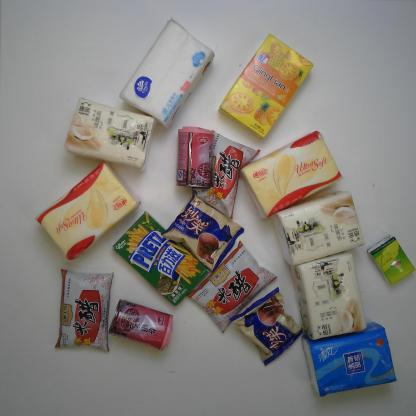Canned Food: (106, 295, 177, 353), (172, 122, 217, 191)
Dessert: (216, 33, 316, 139), (114, 207, 209, 306), (161, 192, 243, 272), (229, 286, 307, 368)
Seasoner: (186, 239, 278, 335), (186, 131, 260, 221), (54, 266, 120, 354)
Tissue: (120, 15, 220, 130), (32, 160, 142, 262), (238, 130, 344, 221), (298, 318, 398, 399), (272, 187, 368, 266), (62, 92, 156, 171), (287, 249, 366, 342), (365, 232, 415, 288)
